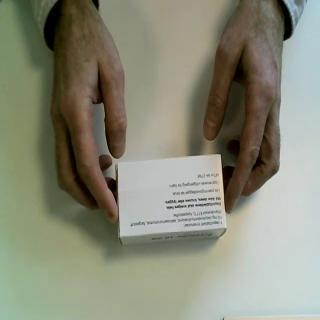oxynorm10mg: (115, 153, 229, 249)
